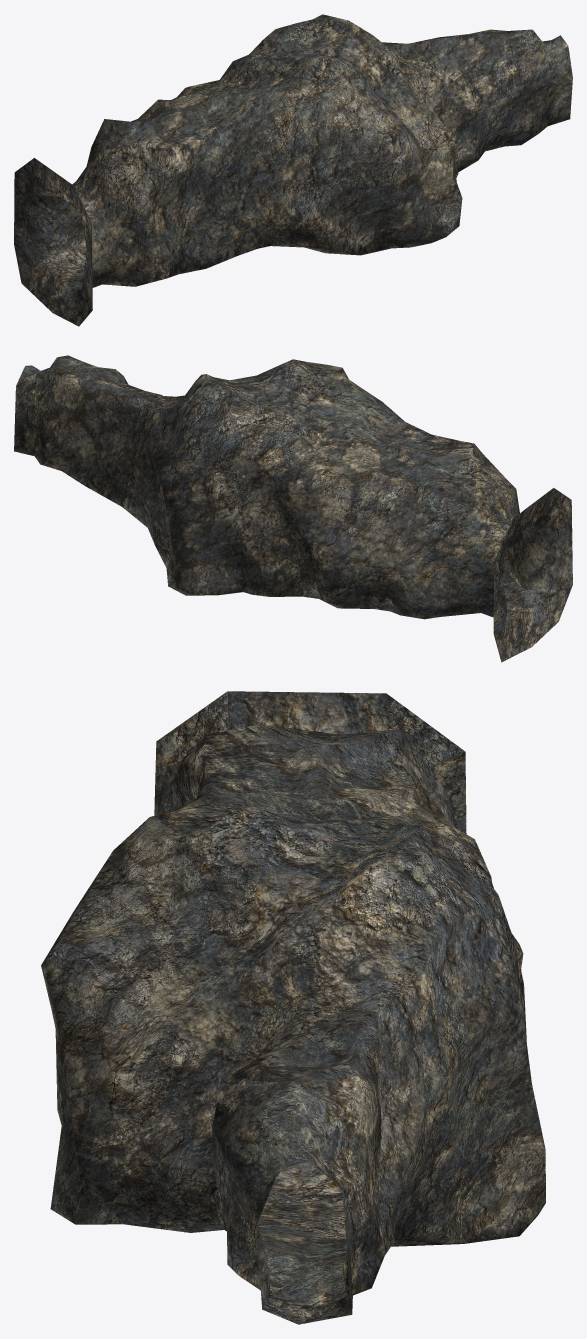
File: Module22.fbx
3 views of the same model, one above another, from view 1: azimuth 30°, elevation 25°; view 2: azimuth 150°, elevation 25°; view 3: azimuth 270°, elevation 25° (orthographic). The views are drawn at different scales.
Visible parts, largest first — view 1: cave_el22_1000_Group6359; view 2: cave_el22_1000_Group6359; view 3: cave_el22_1000_Group6359.
Boxes of the visible parts, box(x1,y1,x2,y2) form: cave_el22_1000_Group6359: box(14, 14, 572, 326); cave_el22_1000_Group6359: box(14, 355, 572, 662); cave_el22_1000_Group6359: box(41, 691, 545, 1324).
Bounding box in the file's own units: 29.14 × 11.41 × 12.56.
